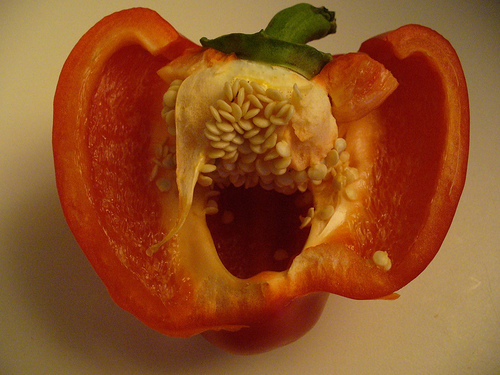capsicum: (51, 3, 475, 357)
